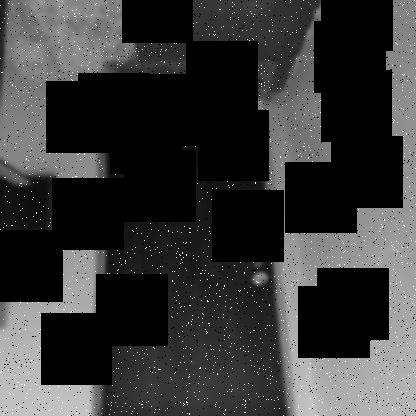Porte: (102, 117, 292, 416)
